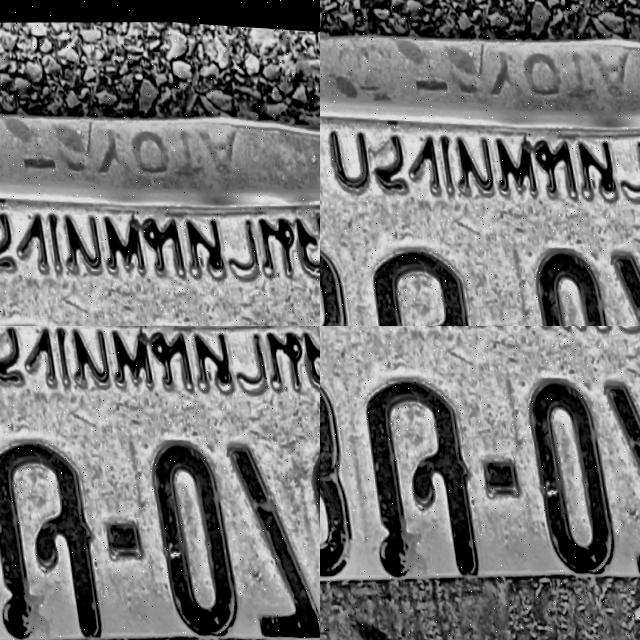license-plate: (320, 326, 640, 640)
